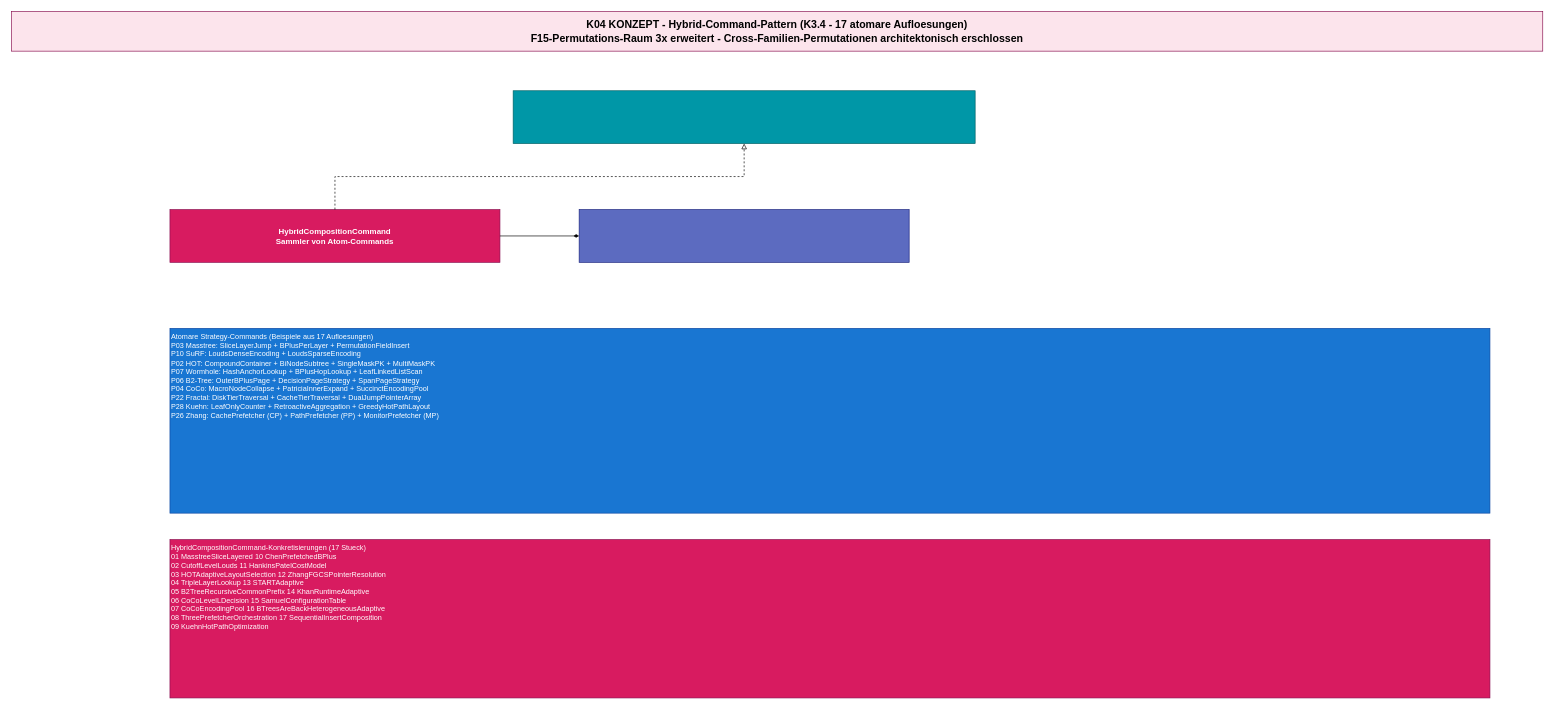
Image size: 1554x710. Some labels were removed from this diagram. Each missing label, with the centre of its shape:
"ICompositionRule Sequential / Parallel / Conditional / Recursive" goes at [743,235].
"IStrategyCommand (Wurzel jeder atomaren Strategie)" goes at [743,117].
